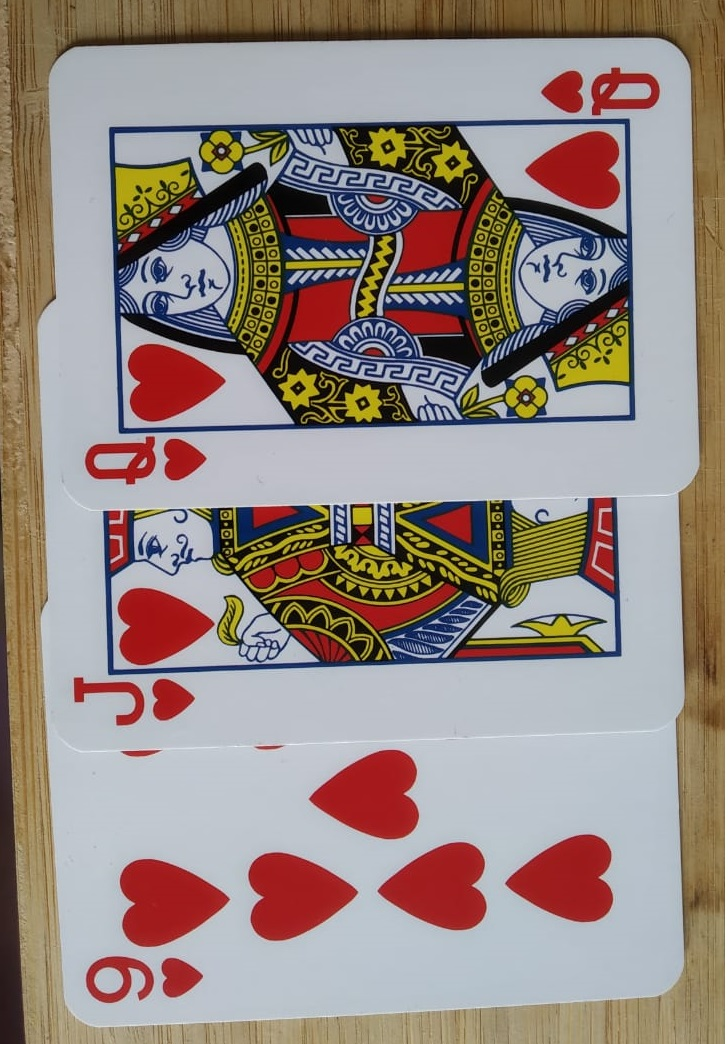jack: (62, 307, 704, 772)
nine: (28, 582, 706, 1021)
queen: (38, 33, 712, 504)
